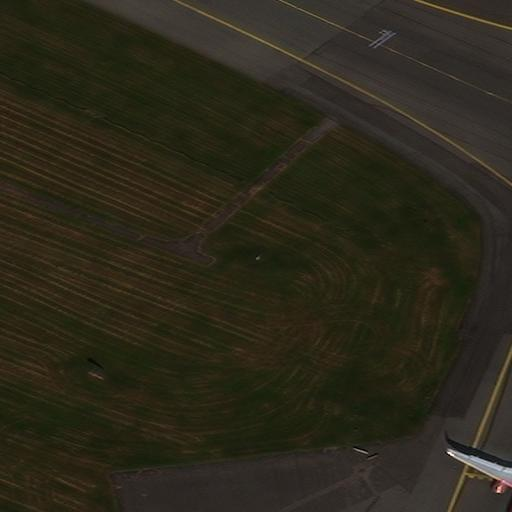Medium Civil Transport: (450, 429, 512, 512)
